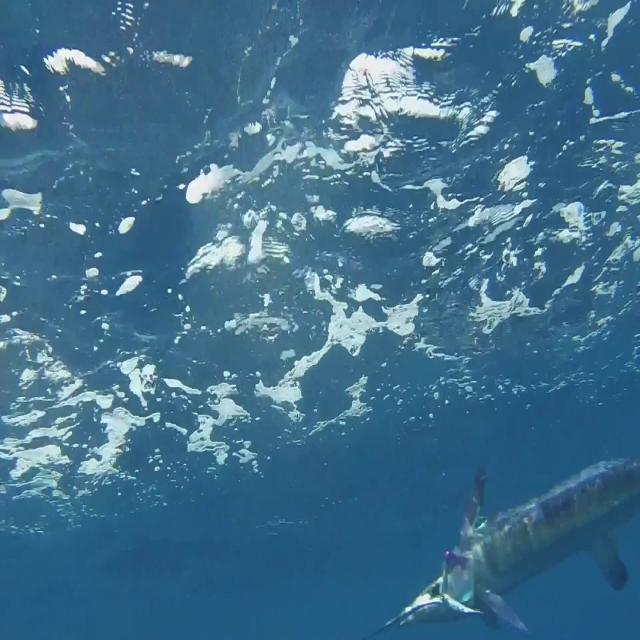Spear Fish: (367, 450, 639, 640)
